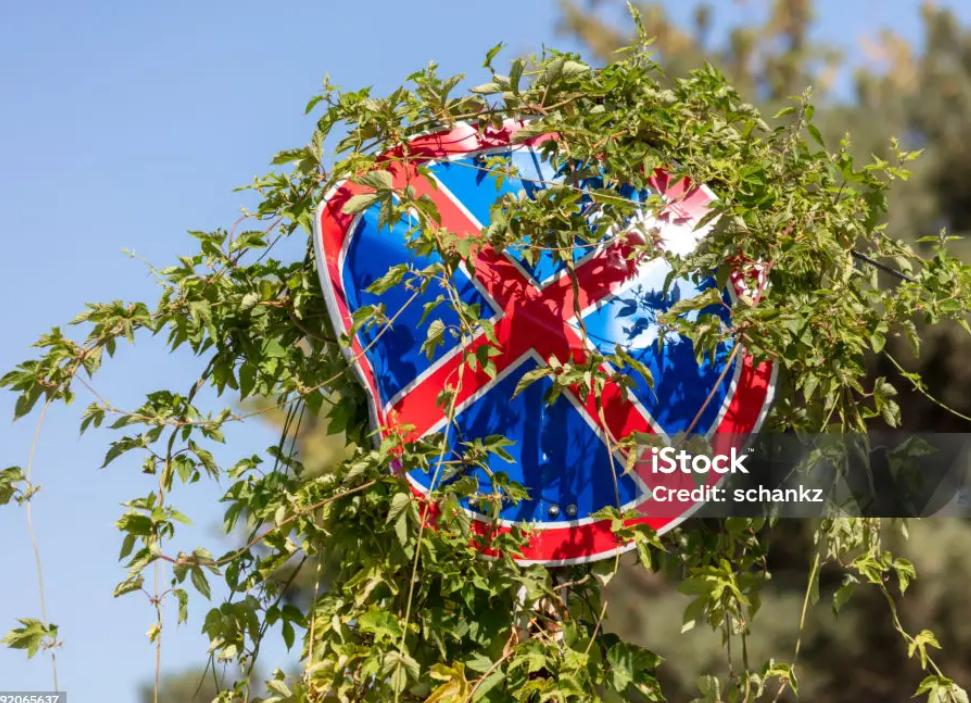obstructed_road_sign: (313, 107, 791, 568)
